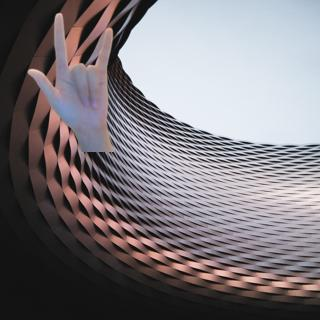ILY: (24, 8, 122, 135)
